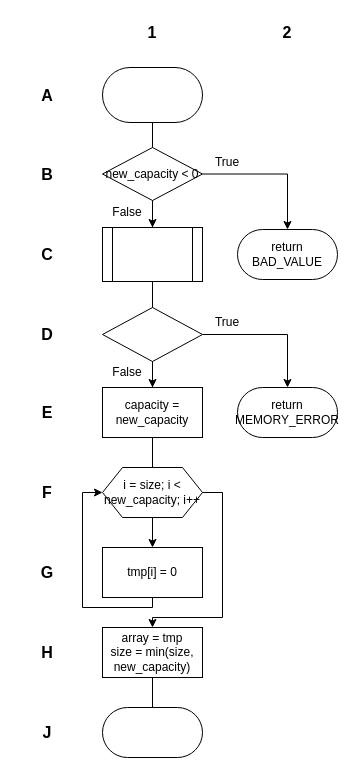
The diagram is 356 pixels wide and 775 high, and some of its shapes have lost their labels. The shapes that lost their labels are listed below. From the top down, each one's centre as x and y in pixels, then its label:
the point at 152,94: change_capacity (array, size, capacity, new_capacity)
the point at 152,254: tmp = realloc (array, new_capacity * sizeof(int))
the point at 152,334: tmp == NULL && capacity != 0
the point at 152,732: return EXIT_SUCCESS
